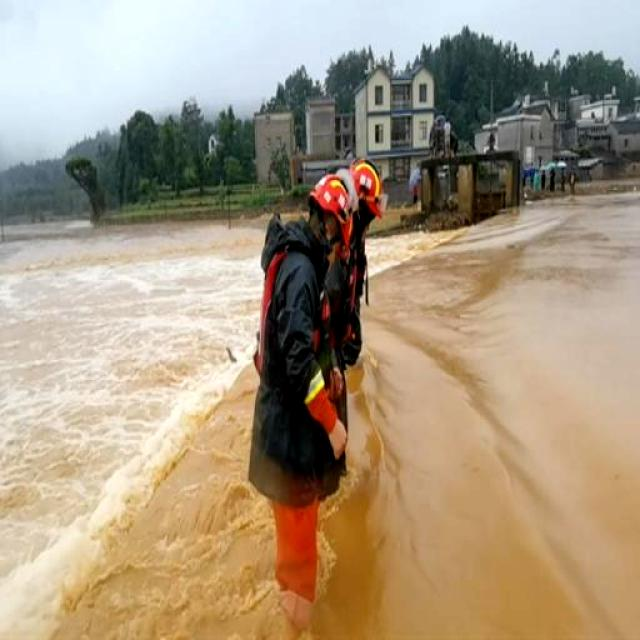civilian: (568, 164, 580, 195), (548, 166, 558, 197), (560, 167, 568, 193), (521, 172, 530, 194), (533, 168, 539, 193), (542, 168, 546, 195)
rescuer: (232, 162, 358, 640), (322, 151, 393, 396)
